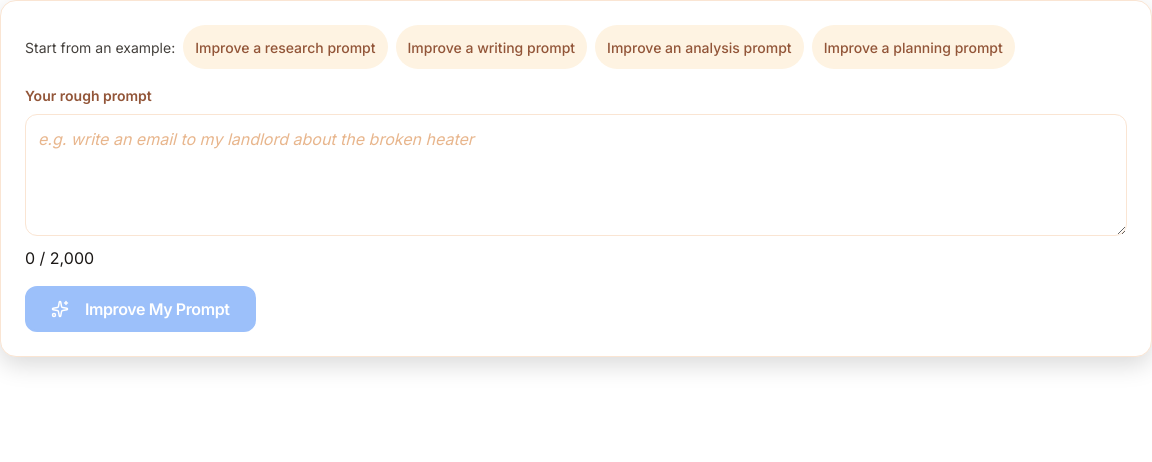
Test: PromptImprover › shows the server error in an alert on failure
Type "make me a website" into the text box. click: (576, 175)
box: [25,114,1127,236]
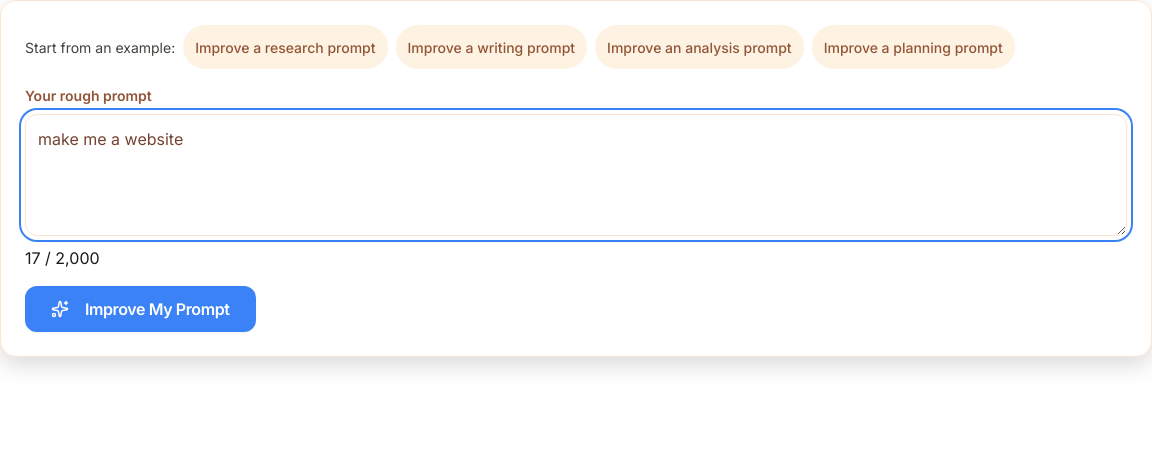
Click the button "Improve My Prompt". click: click(140, 309)
box: [25,286,256,332]
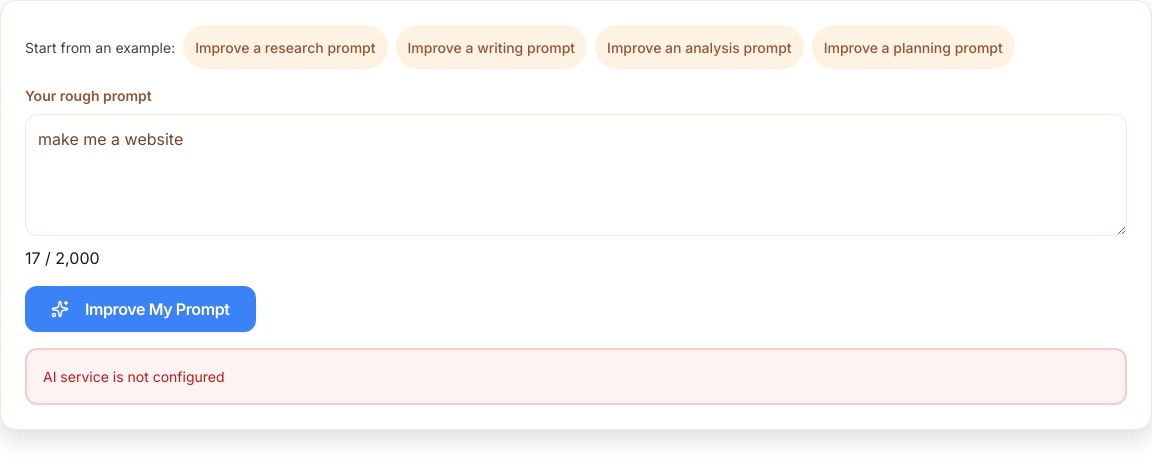
Expected: the message reads "AI service is not configured", [43,368,224,385]
